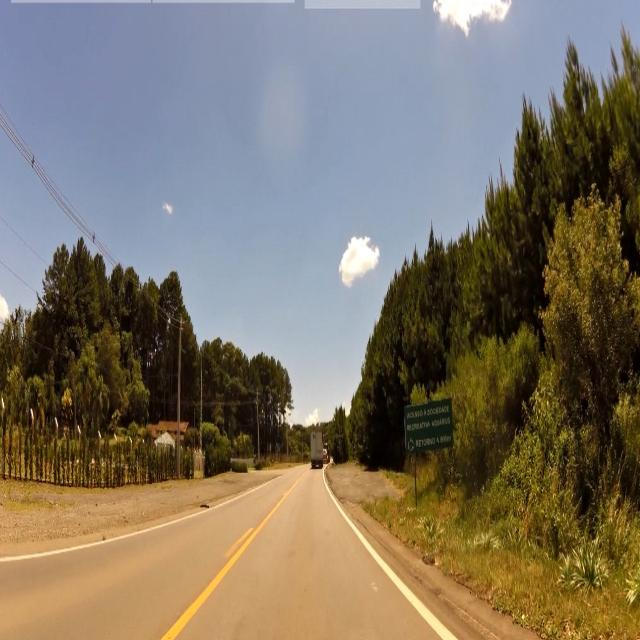I-4: (406, 402, 451, 449)
